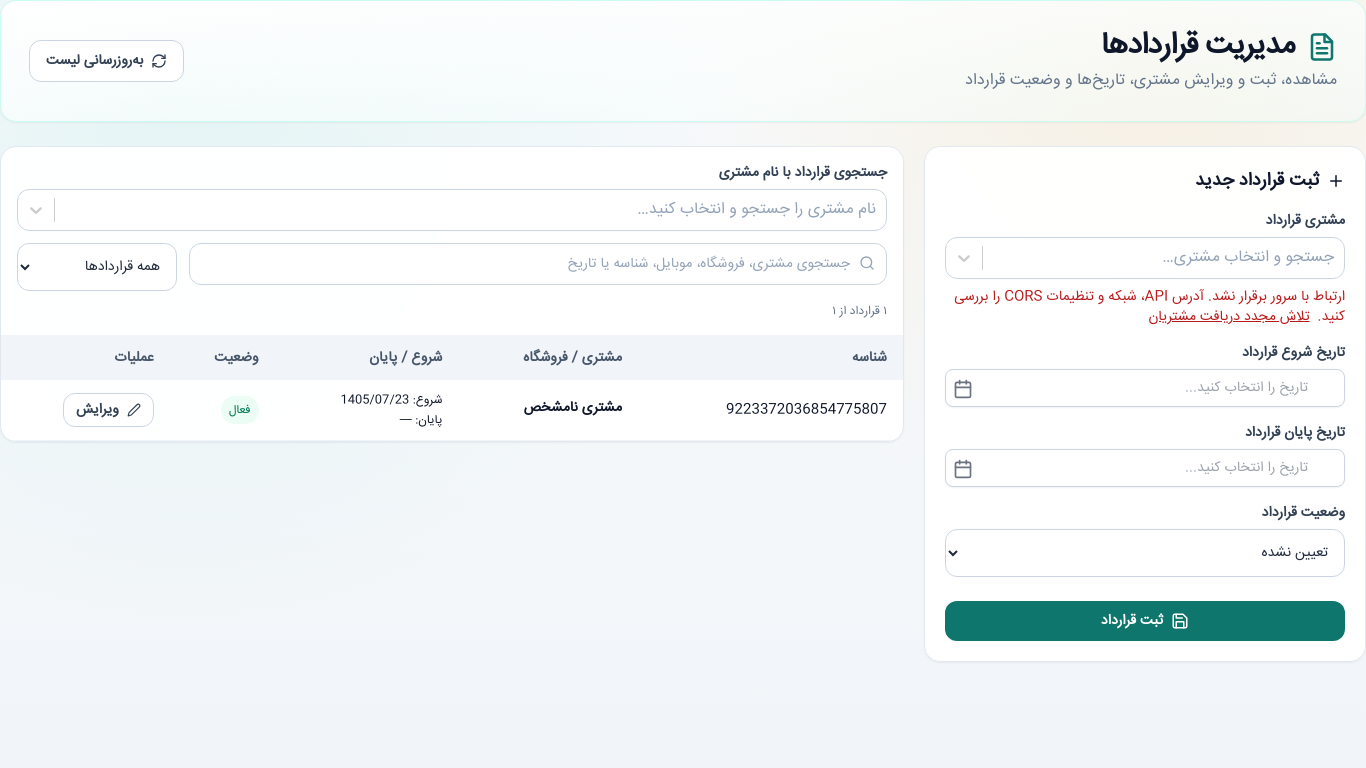
it: Customer loading failures are retryable while the contract list is retained
The width and height of the screenshot is (1366, 768).
Click the button "تلاش مجدد دریافت مشتریان" at point(1229, 317), box x1=1148 y1=307 x2=1310 y2=327
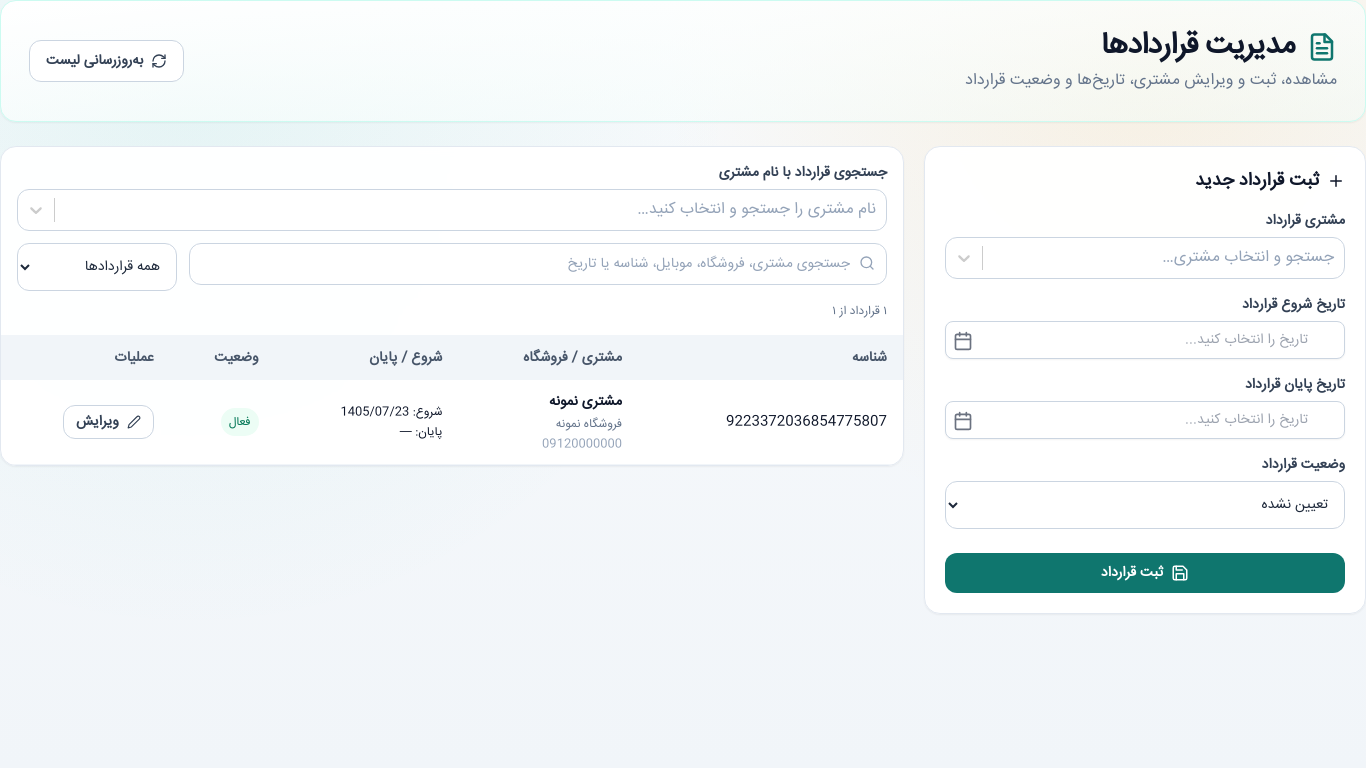
Check: the text "مشتری نمونه" is shown, box x1=549 y1=390 x2=622 y2=414
Check: the message is gone
